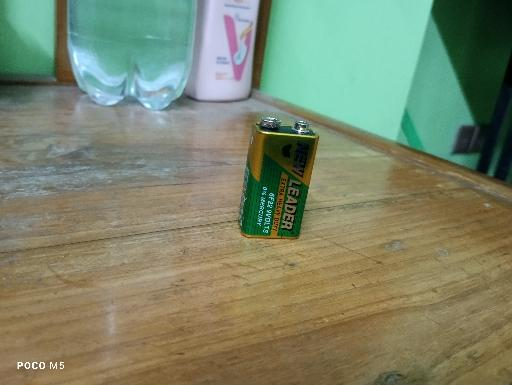Battery: (237, 116, 320, 240)
